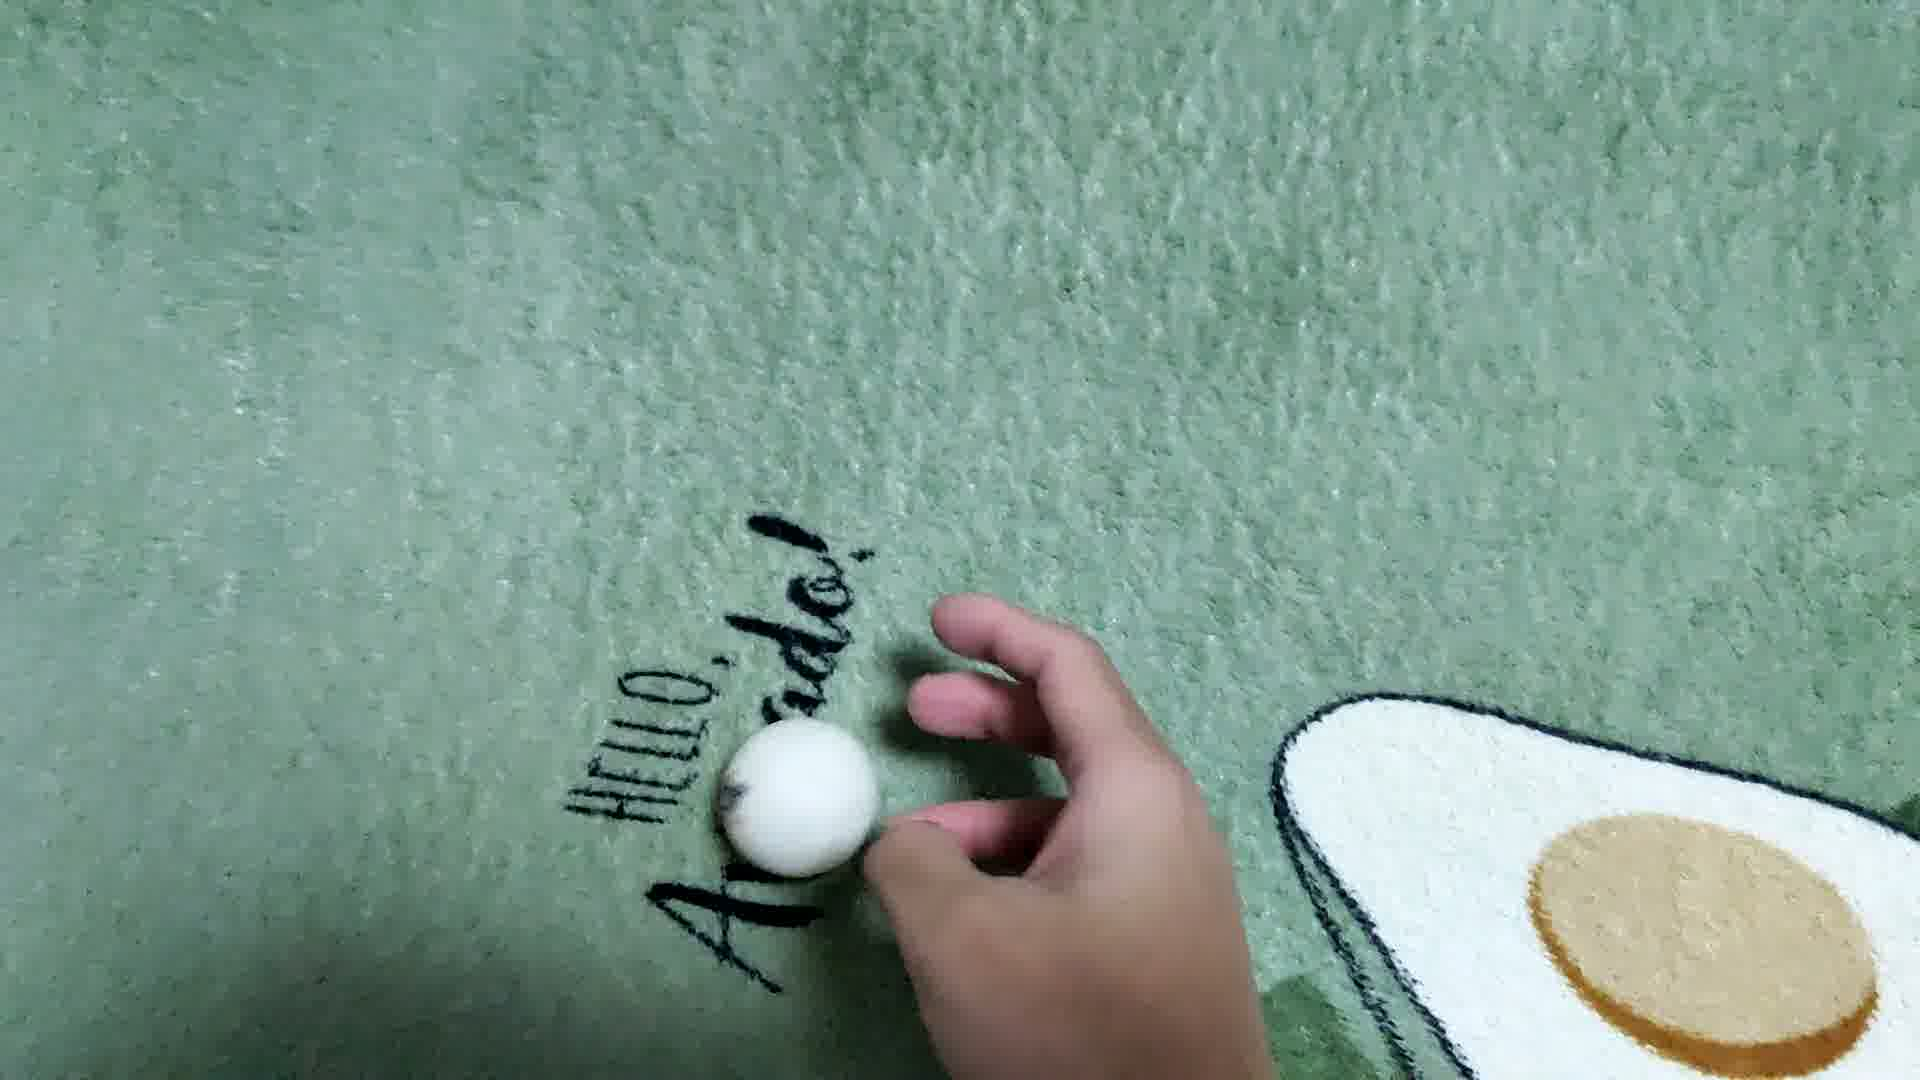Ball: (723, 721, 880, 877)
